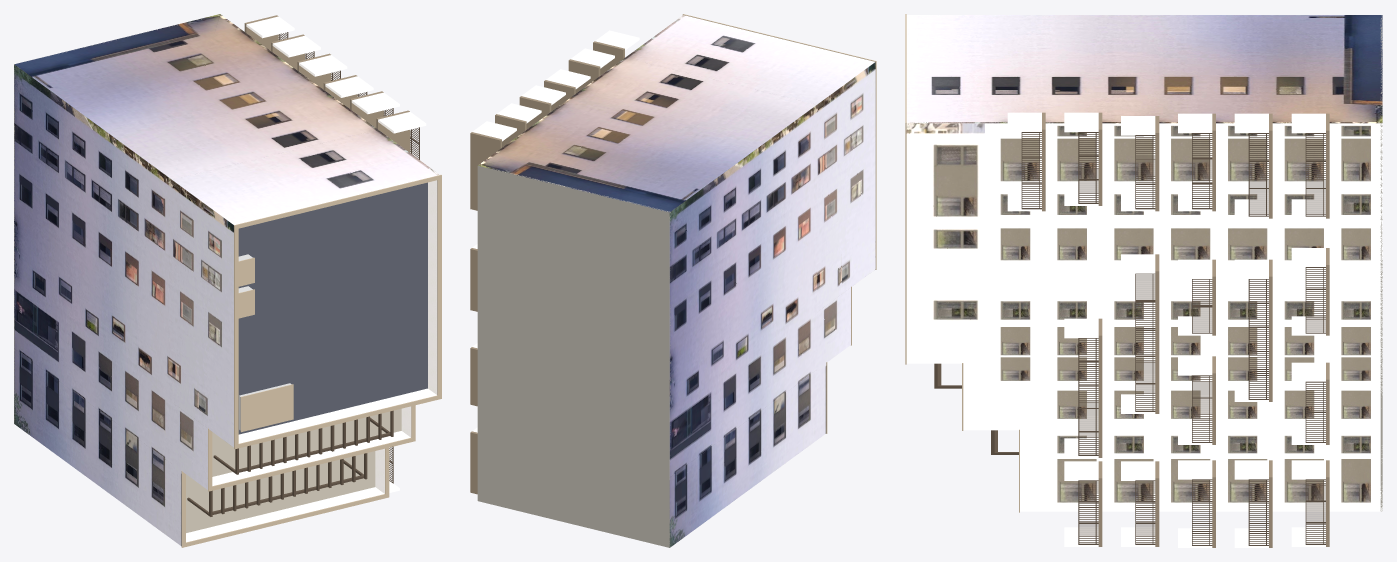
File: husC-v1.glb
The picture shows the model from 3 angles, left to right: view 1: azimuth 30°, elevation 25°; view 2: azimuth 150°, elevation 25°; view 3: azimuth 270°, elevation 25°; orthographic projection. The views are drawn at different scales.
Visible parts, largest first — view 1: Hus C; view 2: Hus C; view 3: Hus C.
Part boxes in pixels (<box>): Hus C: <box>14,14,441,547</box>; Hus C: <box>470,14,876,547</box>; Hus C: <box>905,14,1382,547</box>.
Bounding box in the file's own units: 16.08 × 24.89 × 25.75.
20 materials, 20 textured.
